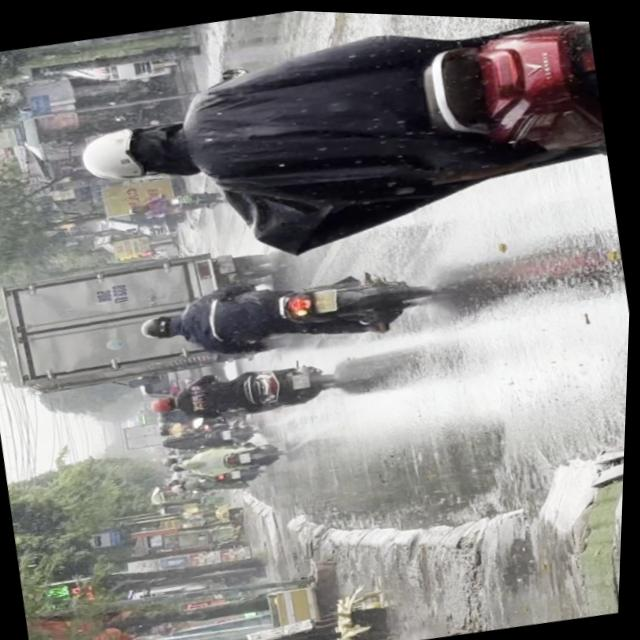helmet: (74, 114, 189, 190), (137, 310, 181, 341), (148, 392, 179, 414)
licenseplate: (56, 2, 618, 278), (132, 245, 443, 379), (144, 346, 346, 433)
nohelmet: (313, 285, 338, 311), (291, 370, 311, 387)
